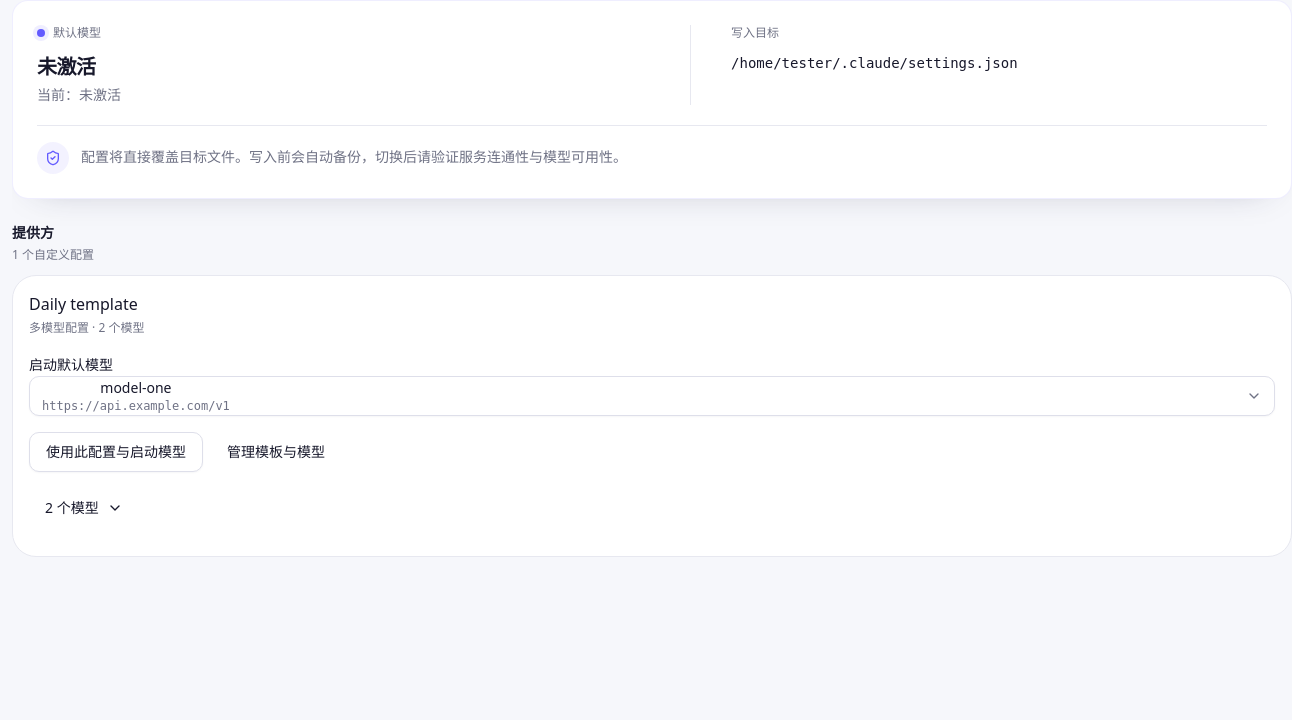
Test: {"id":"kimi"} presents one template configuration with multiple selectable models
Expected: the text "Daily template" is shown, [29,292,144,316]
Expected: the text "多模型配置 · 2 个模型" is shown, [29,320,144,336]
Click the dropdown named "启动默认模型" at [136, 388], box [29,376,1275,416]
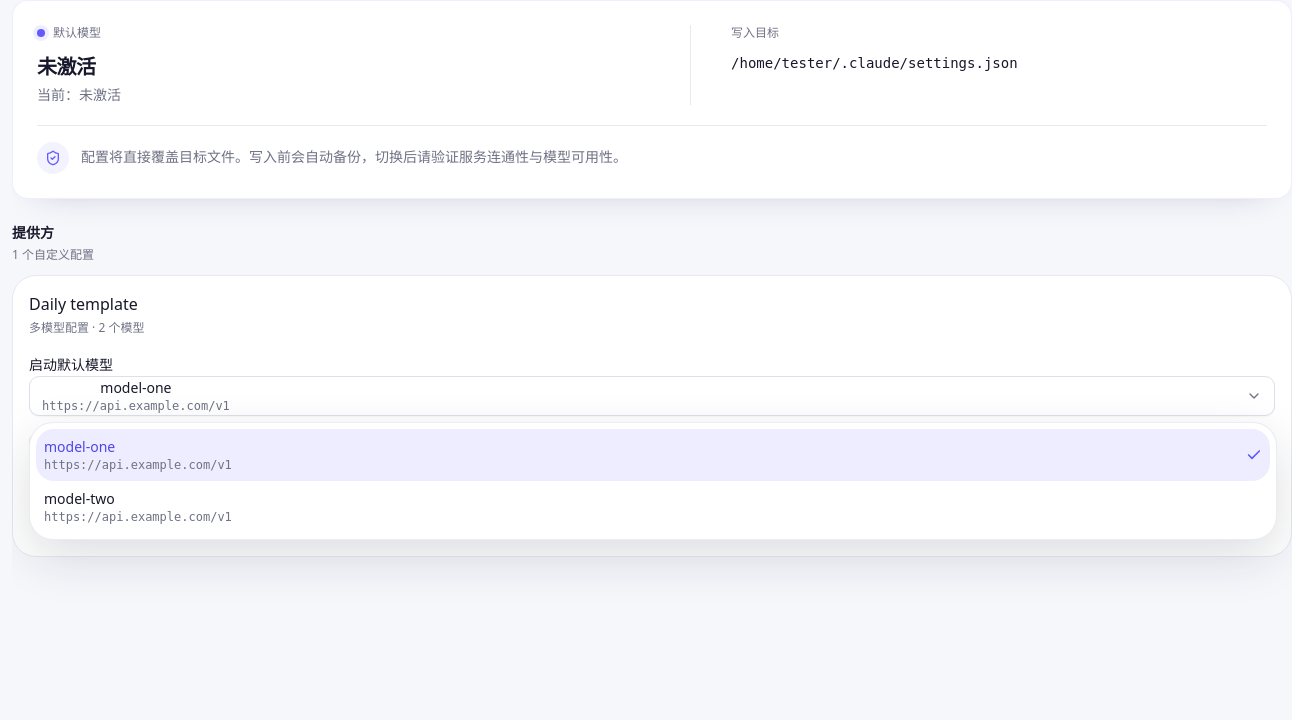
Expected: the option "model-one https://api.example.com/v1" is shown, [36,429,1270,481]
Expected: the option "model-two https://api.example.com/v1" is shown, [44,489,232,524]
